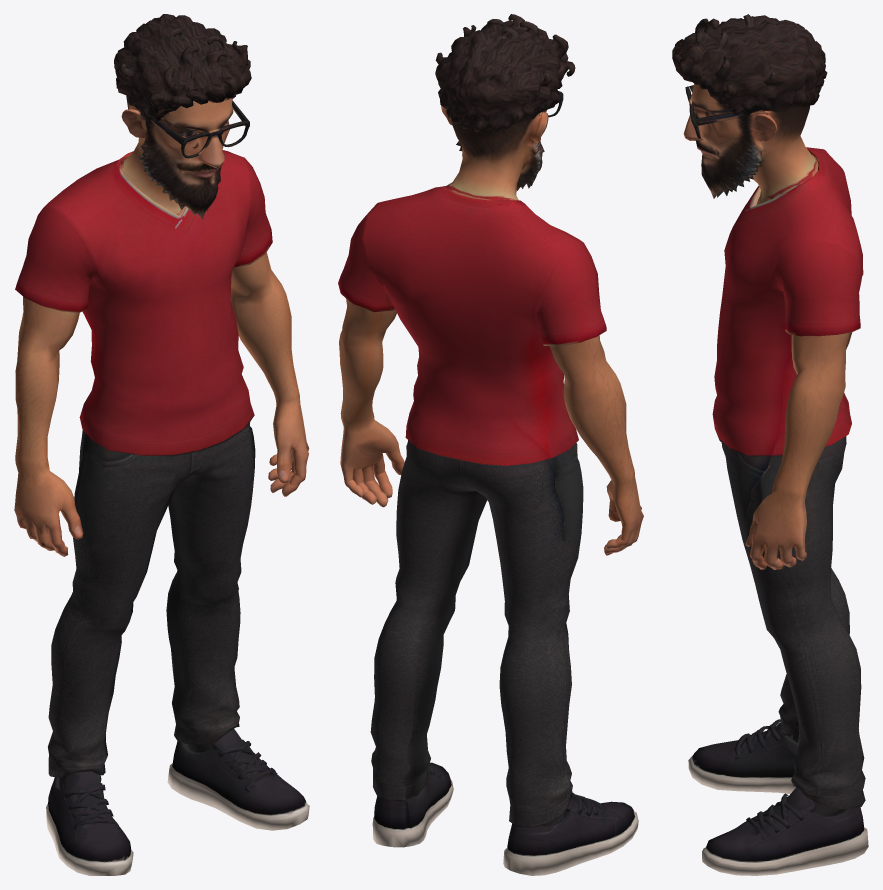
File: avatar2-preview.glb
3 renders of one model, left to right at view 1: azimuth 30°, elevation 25°; view 2: azimuth 150°, elevation 25°; view 3: azimuth 270°, elevation 25°, orthographic.
Parts seen in each view (by area): view 1: tripo_1e153d25_75ed_4602_b9a3_d9983e6b55e0; view 2: tripo_1e153d25_75ed_4602_b9a3_d9983e6b55e0; view 3: tripo_1e153d25_75ed_4602_b9a3_d9983e6b55e0.
Part boxes in pixels (bbox=[...]): tripo_1e153d25_75ed_4602_b9a3_d9983e6b55e0: bbox=[14, 14, 309, 875]; tripo_1e153d25_75ed_4602_b9a3_d9983e6b55e0: bbox=[338, 14, 643, 875]; tripo_1e153d25_75ed_4602_b9a3_d9983e6b55e0: bbox=[672, 14, 868, 875].
Size of the model in its own units: 0.3765 by 0.9995 by 0.2212.
1 material, 1 textured.
